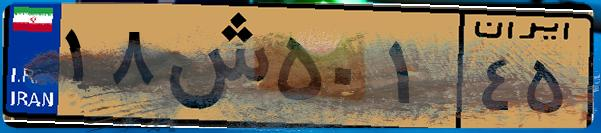0: (330, 28, 385, 110)
1: (385, 28, 445, 110), (57, 26, 110, 100)
4: (475, 38, 525, 113)
5: (270, 28, 330, 110), (525, 38, 570, 115)
8: (110, 28, 158, 98)
ش: (158, 12, 270, 120)
